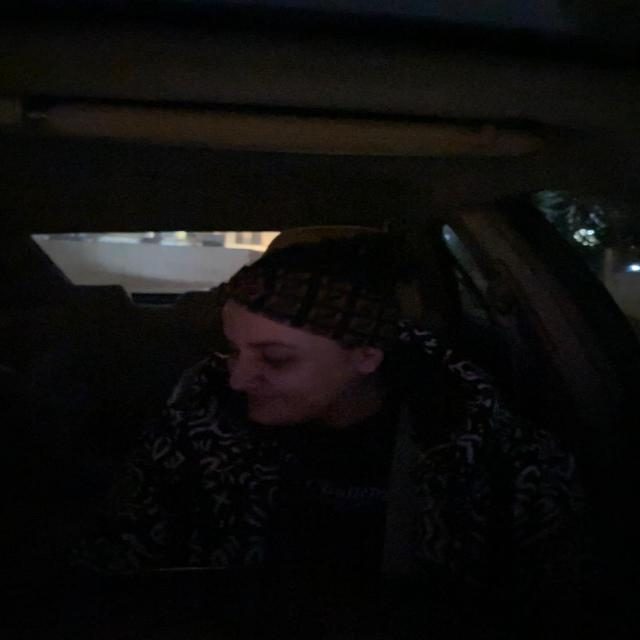drowsy: (210, 277, 398, 423)
